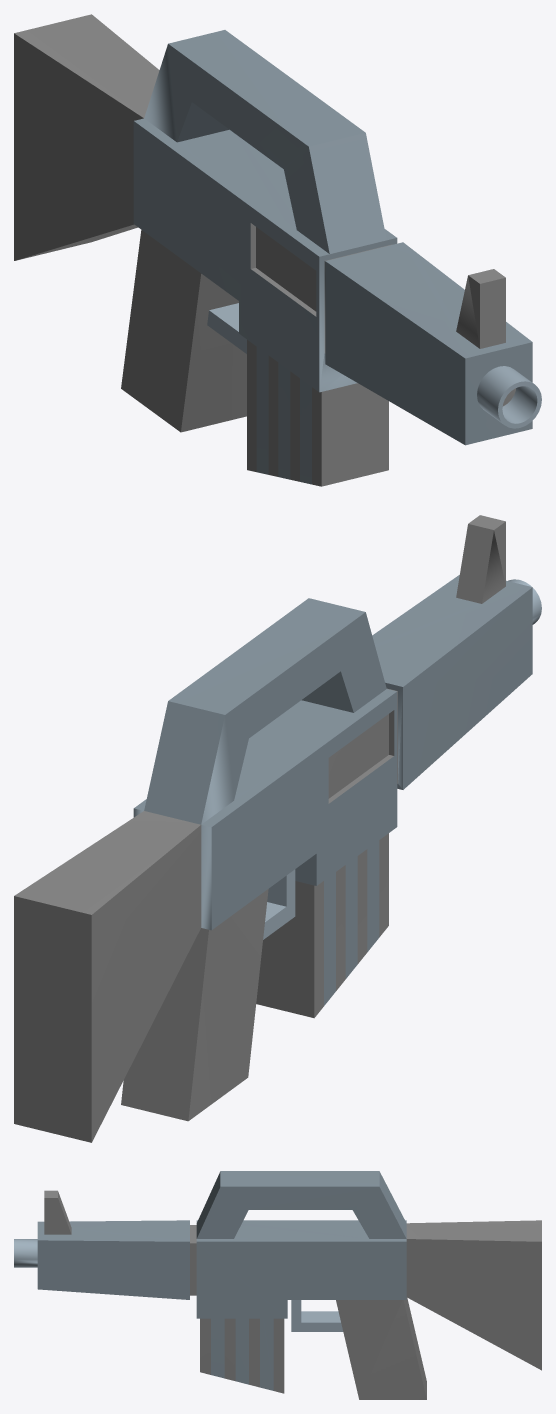
Rendered from machinegun.glb.
3 renders of one model, top to bottom at view 1: azimuth 30°, elevation 25°; view 2: azimuth 150°, elevation 25°; view 3: azimuth 270°, elevation 25°, orthographic. The views are drawn at different scales.
Parts seen in each view (by area): view 1: machinegun, Group; view 2: machinegun, Group; view 3: machinegun, Group.
Part boxes in pixels (x1,y1,x2,y2): machinegun: (14, 14, 541, 445); Group: (247, 340, 388, 486); machinegun: (14, 515, 541, 1142); Group: (256, 833, 388, 1018); machinegun: (14, 1171, 541, 1399); Group: (200, 1318, 284, 1393).
Size of the model in its own units: 0.0574 by 0.2641 by 0.5972.
